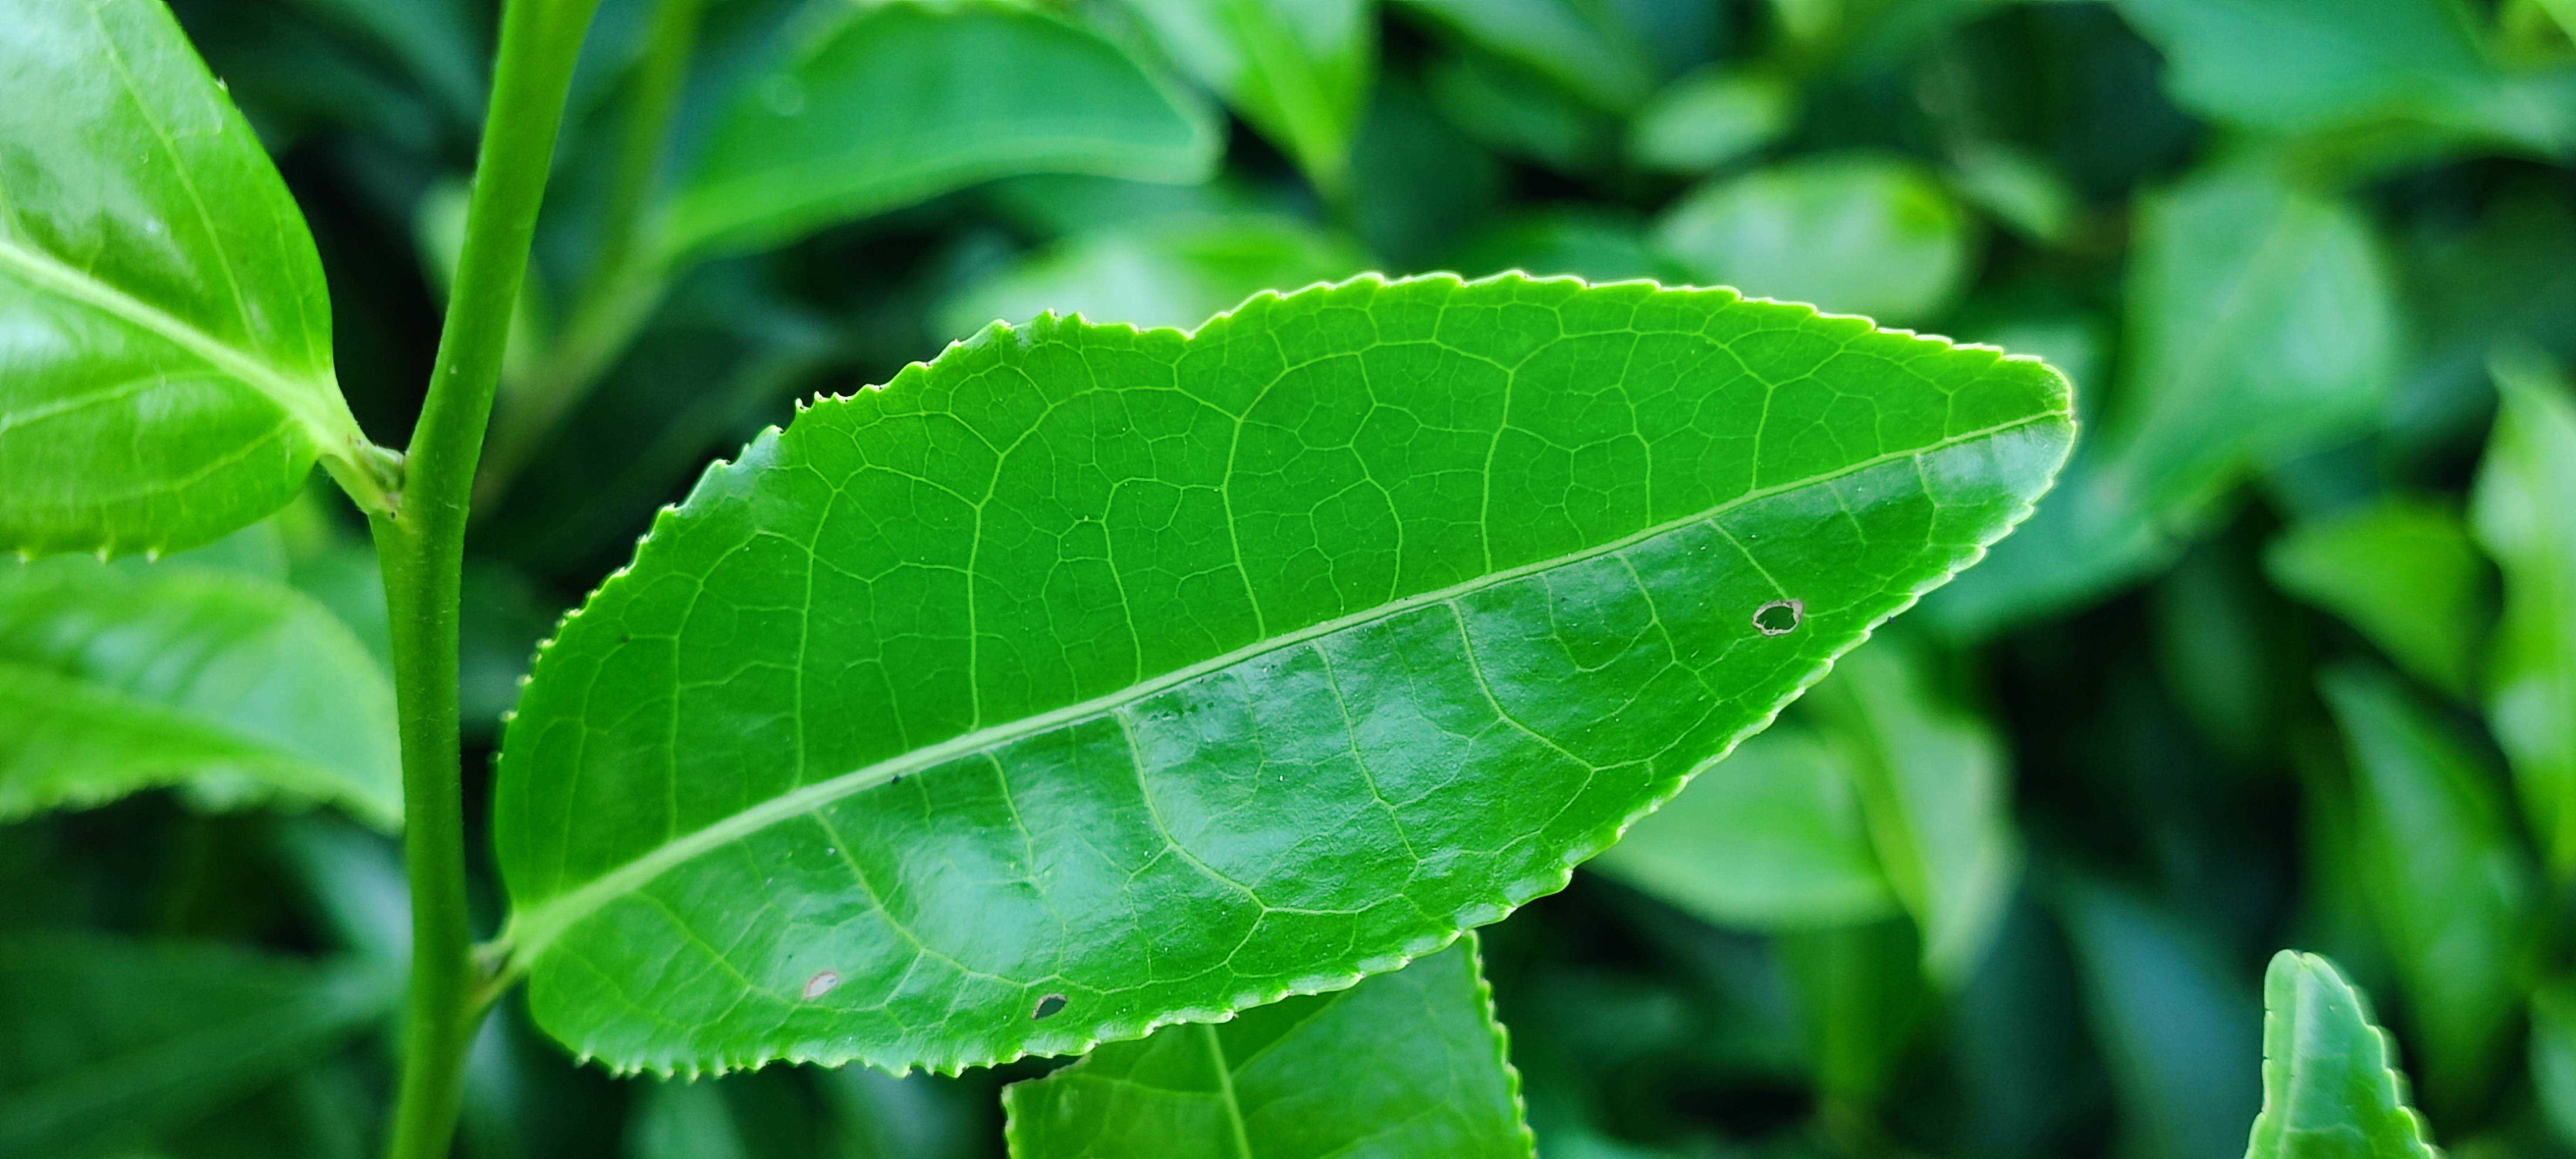chihuo_high: (493, 269, 2083, 1083)
